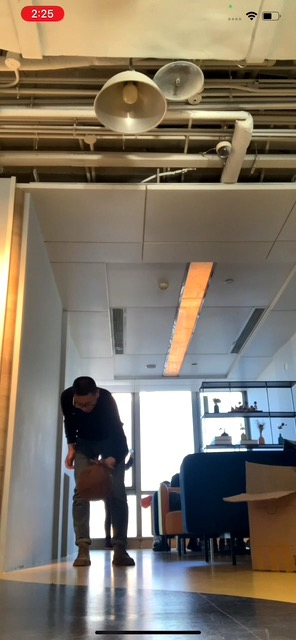ball: (76, 465, 114, 502)
